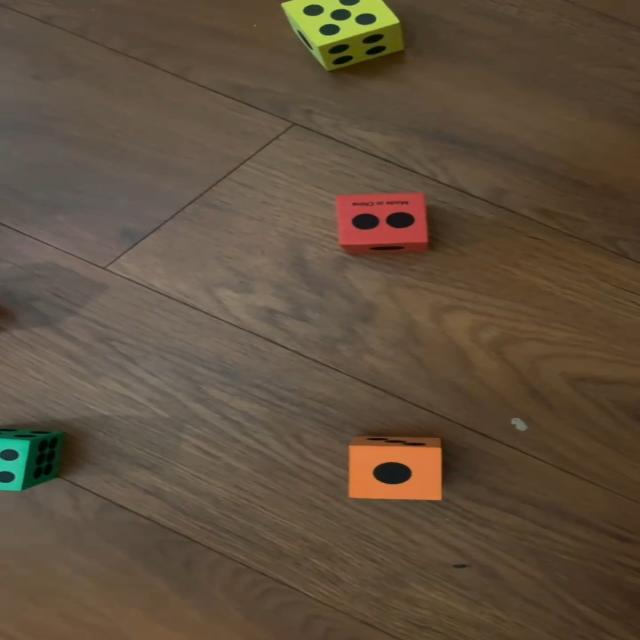red_block: (334, 194, 429, 253)
